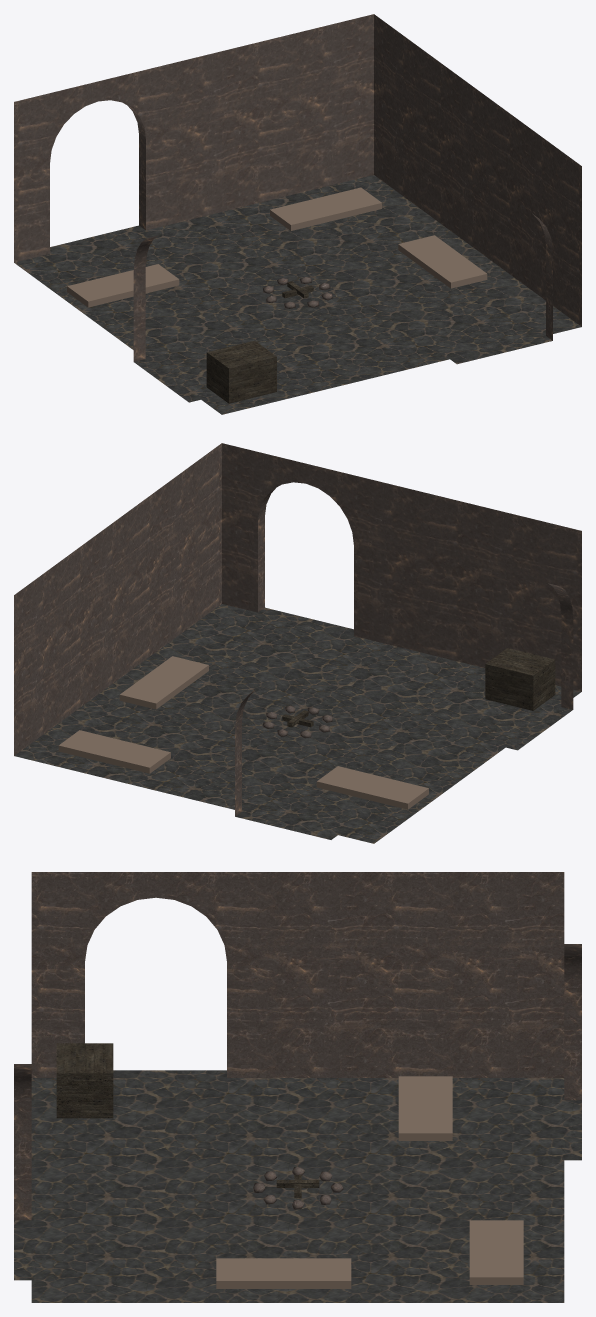
The model's file is explorers-camp.52526924.gltf.
The picture shows the model from 3 angles, top to bottom: view 1: azimuth 30°, elevation 25°; view 2: azimuth 150°, elevation 25°; view 3: azimuth 270°, elevation 25°; orthographic projection. The views are drawn at different scales.
Parts seen in each view (by area): view 1: explorers-camp-mesh, explorers-camp-props; view 2: explorers-camp-mesh, explorers-camp-props; view 3: explorers-camp-mesh, explorers-camp-props.
Boxes of the visible parts, left/top/right/bottom form: explorers-camp-mesh: left=14, top=14, right=581, bottom=414; explorers-camp-props: left=67, top=187, right=487, bottom=403; explorers-camp-mesh: left=14, top=443, right=581, bottom=843; explorers-camp-props: left=58, top=648, right=555, bottom=809; explorers-camp-mesh: left=14, top=872, right=581, bottom=1302; explorers-camp-props: left=56, top=1043, right=523, bottom=1288.
Bounding box in the file's own units: 7.75 × 3.24 × 8.
Materials: 4 (3 with a texture image).
